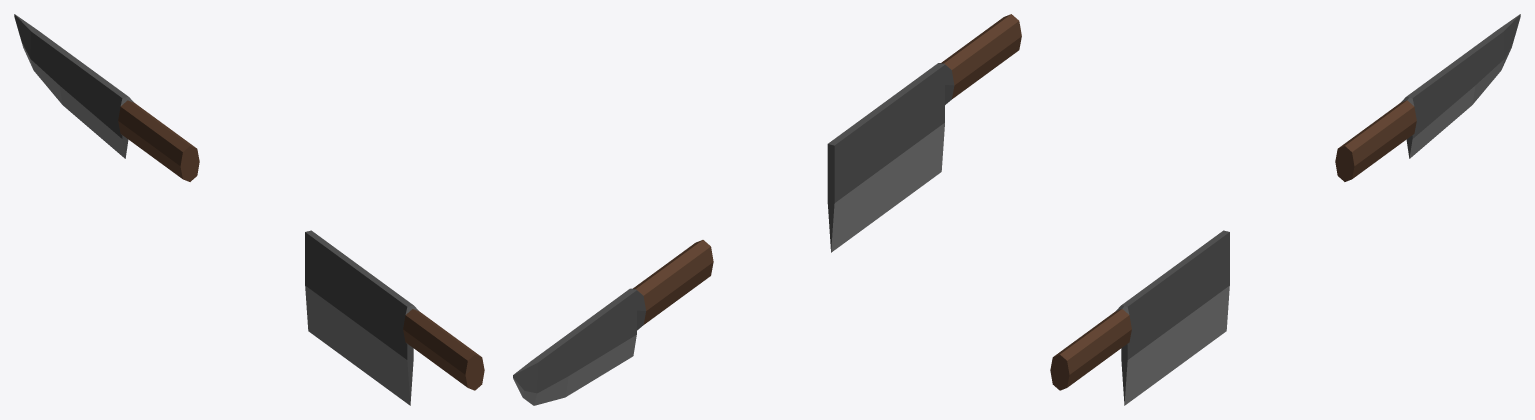
The model's file is MageHunter - Knives.fbx.
3 renders of one model, left to right at view 1: azimuth 30°, elevation 25°; view 2: azimuth 150°, elevation 25°; view 3: azimuth 330°, elevation 25°, orthographic. The views are drawn at different scales.
Visible parts, largest first — view 1: Cube, Cube.001; view 2: Cube, Cube.001; view 3: Cube, Cube.001.
Part boxes in pixels (x1,y1,x2,y2): Cube: (305,230,484,405); Cube.001: (14,14,199,181); Cube: (827,14,1021,252); Cube.001: (513,240,713,405); Cube: (1050,230,1229,405); Cube.001: (1335,14,1520,181).
Bounding box in the file's own units: 3.31 × 16.78 × 137.
